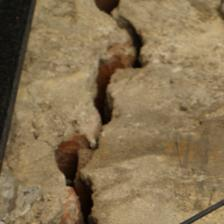Crack: (27, 1, 122, 221)
